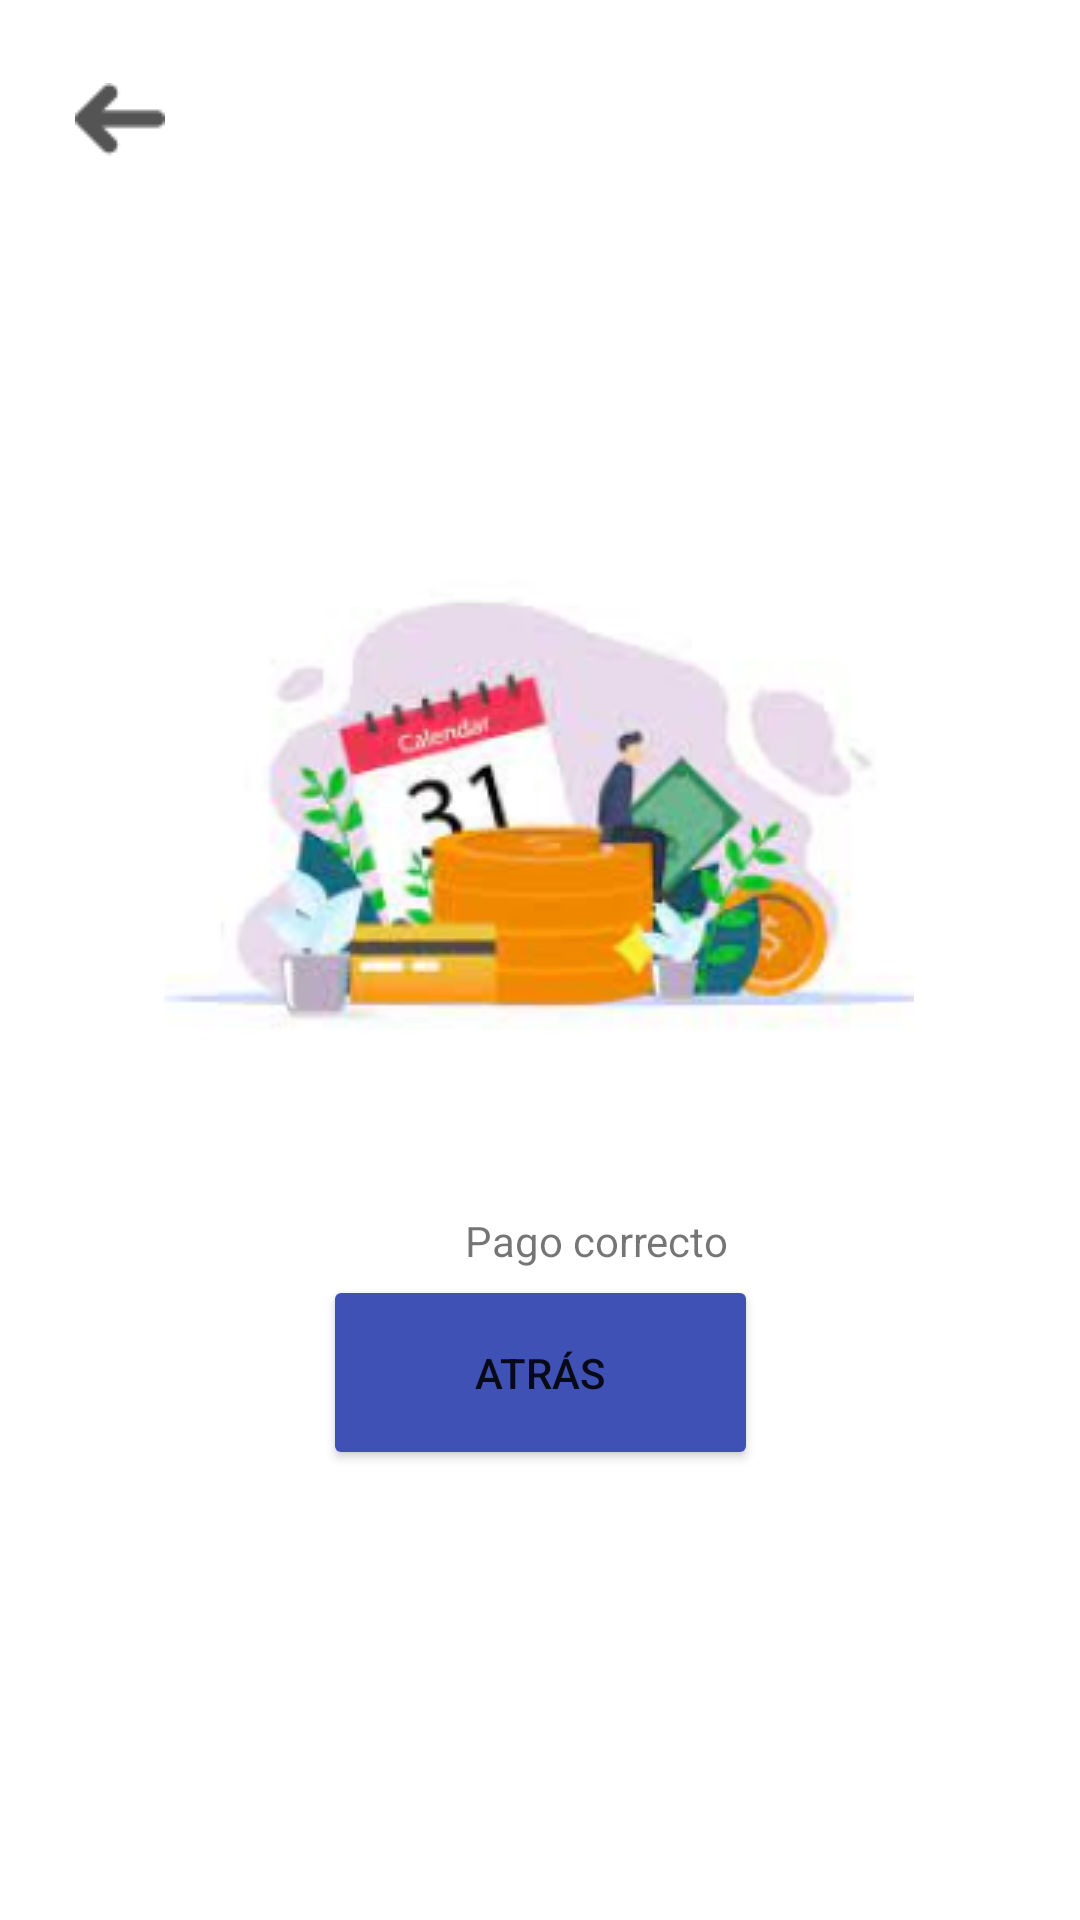

Icon bounding boxes for this 1080 × 1920 phone screenshot, format box(x1, y1, x2, y2):
arrow: box(75, 83, 165, 155)
